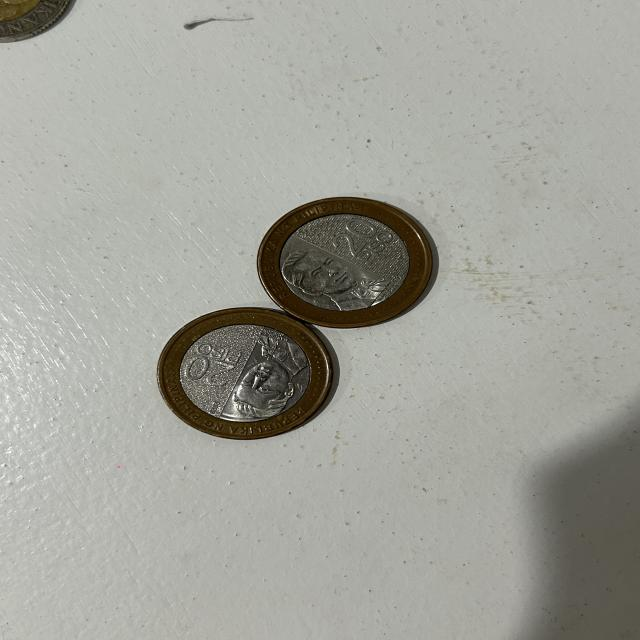20_New_Front: (327, 215, 395, 262), (182, 341, 244, 389)
